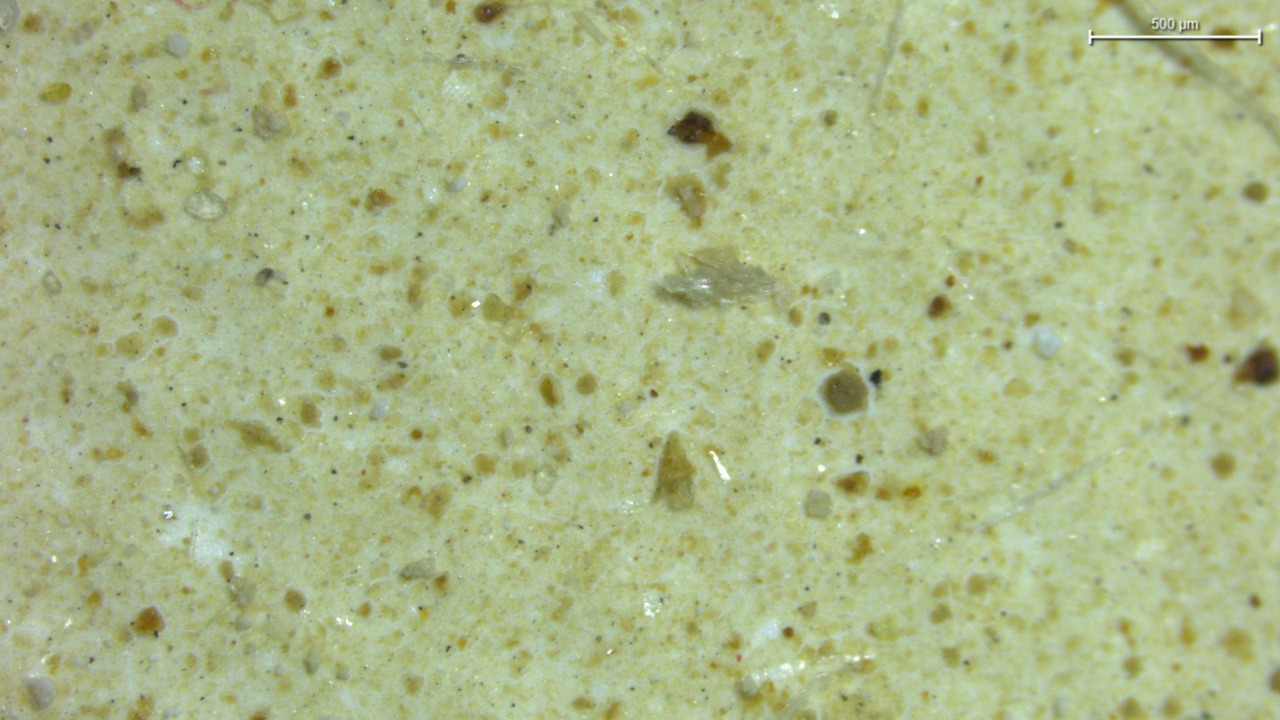microplastic_fragment: (658, 248, 776, 307), (185, 189, 227, 220), (1034, 325, 1061, 357)
